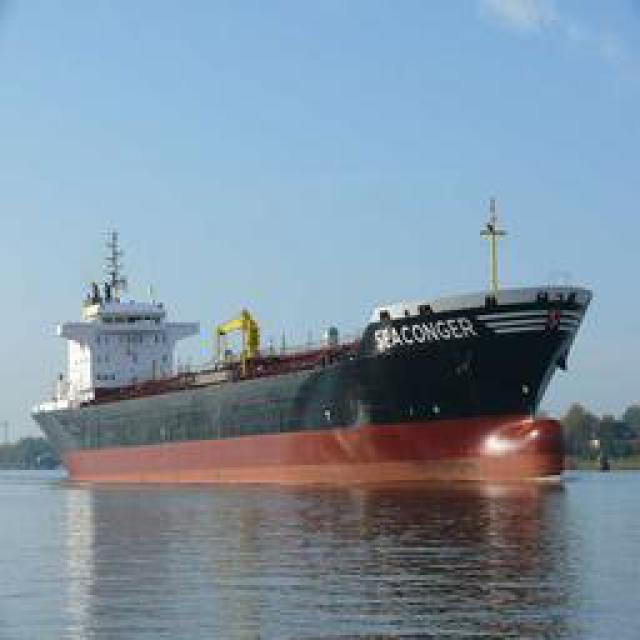Ship: (35, 240, 593, 498)
